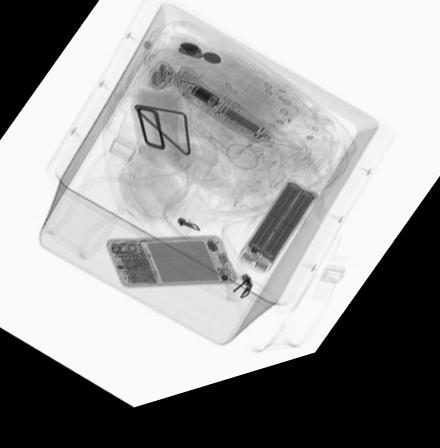Powerbank: (236, 197, 317, 292)
